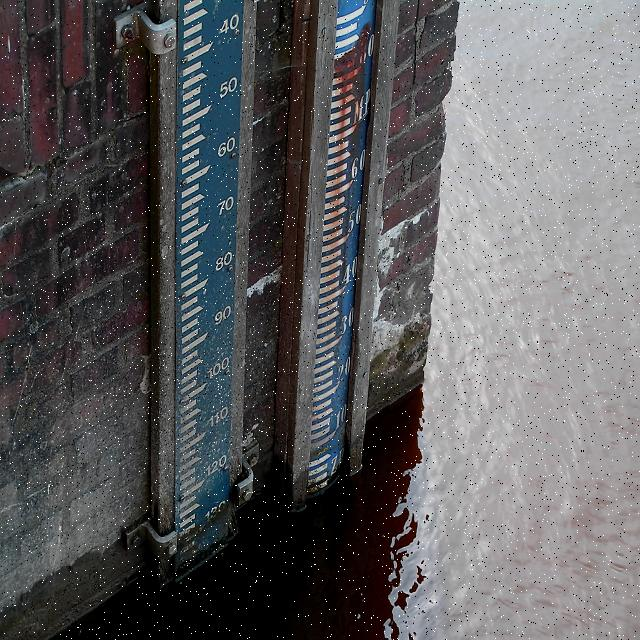10: (207, 360, 222, 382), (216, 406, 228, 425)
20: (212, 455, 229, 477)
40: (220, 10, 240, 38)
50: (218, 77, 238, 99)
60: (219, 135, 235, 158)
70: (219, 192, 234, 215)
80: (215, 251, 232, 273)
90: (215, 304, 232, 325)
staff: (177, 0, 243, 545), (308, 0, 377, 496)
